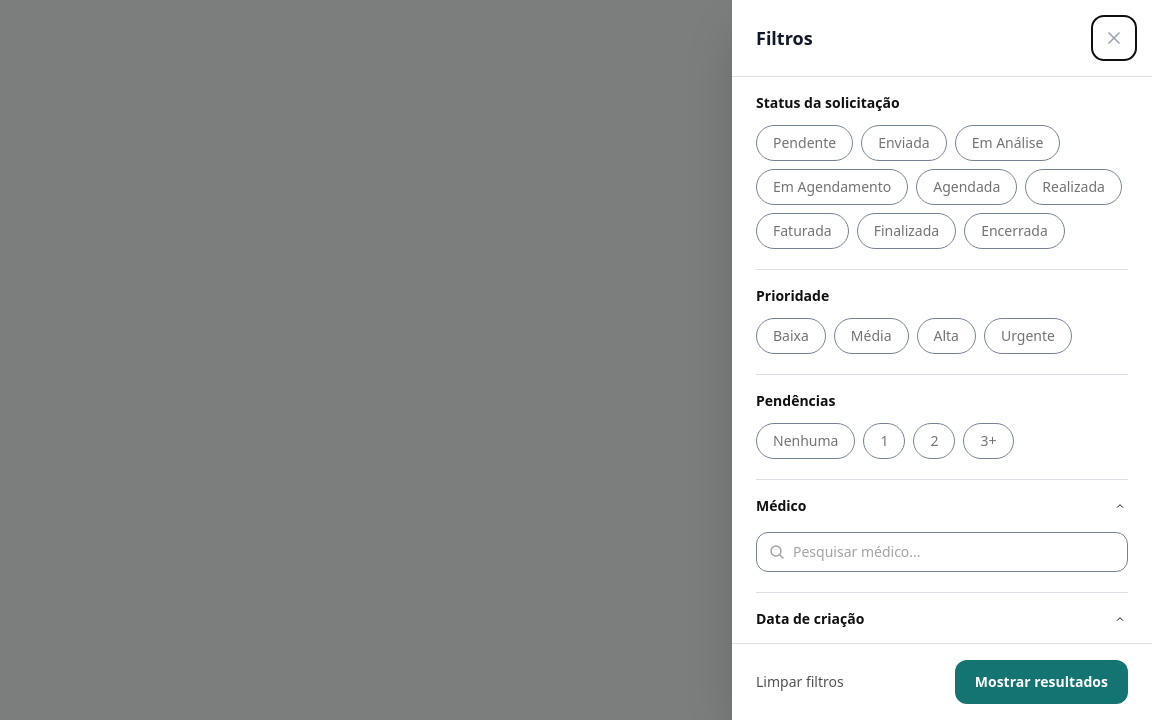
it: FilterModal — Filtro por Médico › deve listar médicos ao clicar no campo de pesquisa
Click the field with placeholder "Pesquisar médico..." at (954, 552), box [793,542,1115,562]
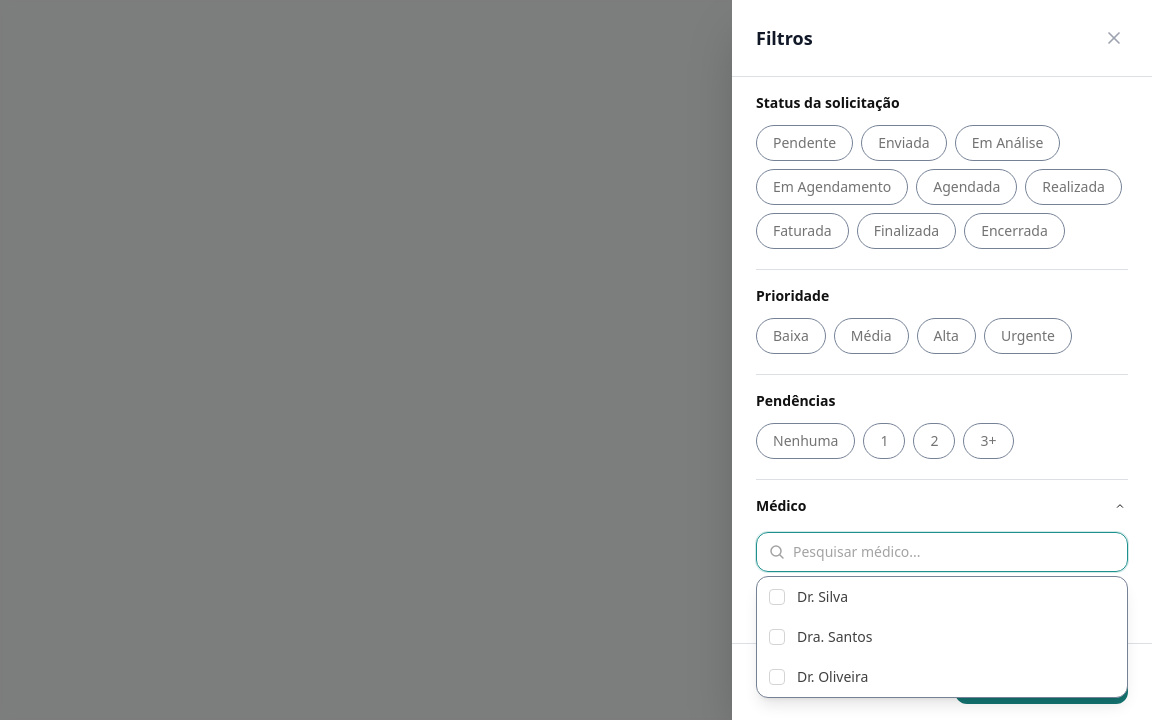
Now the text "Dr. Silva" is shown, box [797,587,848,607]
Now the text "Dra. Santos" is shown, box [797,627,872,647]
Now the text "Dr. Oliveira" is shown, box [797,667,868,687]
